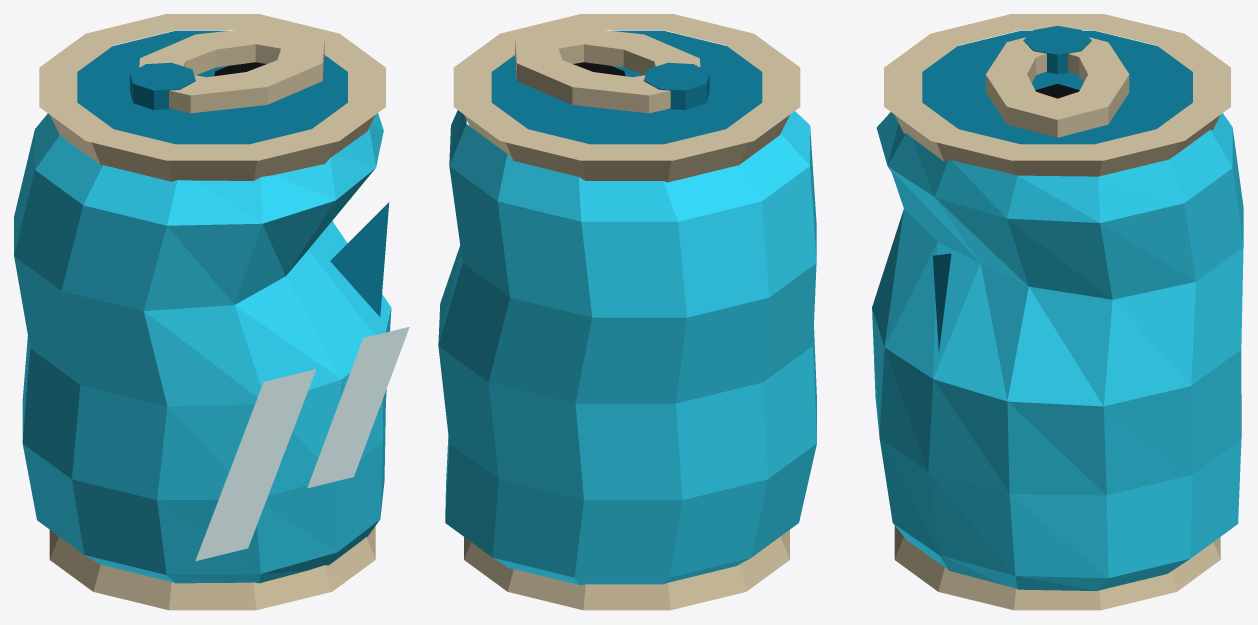
Rendered from soda-can-v1-CccrowkS.glb.
3 renders of one model, left to right at view 1: azimuth 30°, elevation 25°; view 2: azimuth 150°, elevation 25°; view 3: azimuth 270°, elevation 25°, orthographic.
Visible parts, largest first — view 1: SCV1_BodyShell, SCV1_TopRim, SCV1_TopPlate, SCV1_PullTab, SCV1_BottomShoulder, SCV1_LabelSlash_A, SCV1_LabelSlash_B, SCV1_TopShoulder, SCV1_DentFacet, SCV1_TabHinge; view 2: SCV1_BodyShell, SCV1_TopRim, SCV1_TopPlate, SCV1_PullTab, SCV1_BottomShoulder, SCV1_TopShoulder, SCV1_TabHinge; view 3: SCV1_BodyShell, SCV1_TopRim, SCV1_TopPlate, SCV1_PullTab, SCV1_BottomShoulder, SCV1_TopShoulder, SCV1_TabHinge, SCV1_DentFacet.
Boxes of the visible parts, left/top/right/bottom form: SCV1_BodyShell: left=14, top=113, right=391, bottom=583; SCV1_TopRim: left=39, top=14, right=385, bottom=160; SCV1_TopPlate: left=77, top=30, right=347, bottom=144; SCV1_PullTab: left=139, top=26, right=324, bottom=113; SCV1_BottomShoulder: left=49, top=526, right=375, bottom=610; SCV1_LabelSlash_A: left=195, top=369, right=316, bottom=561; SCV1_LabelSlash_B: left=307, top=327, right=409, bottom=488; SCV1_TopShoulder: left=49, top=114, right=375, bottom=181; SCV1_DentFacet: left=330, top=202, right=389, bottom=316; SCV1_TabHinge: left=130, top=62, right=195, bottom=109; SCV1_BodyShell: left=438, top=110, right=816, bottom=584; SCV1_TopRim: left=453, top=14, right=800, bottom=160; SCV1_TopPlate: left=491, top=30, right=762, bottom=144; SCV1_PullTab: left=515, top=26, right=700, bottom=113; SCV1_BottomShoulder: left=464, top=530, right=789, bottom=610; SCV1_TopShoulder: left=464, top=115, right=789, bottom=182; SCV1_TabHinge: left=643, top=62, right=709, bottom=109; SCV1_BodyShell: left=872, top=112, right=1243, bottom=590; SCV1_TopRim: left=884, top=14, right=1230, bottom=160; SCV1_TopPlate: left=922, top=30, right=1192, bottom=144; SCV1_PullTab: left=985, top=37, right=1129, bottom=137; SCV1_BottomShoulder: left=894, top=526, right=1220, bottom=610; SCV1_TopShoulder: left=895, top=115, right=1220, bottom=176; SCV1_TabHinge: left=1023, top=26, right=1091, bottom=73; SCV1_DentFacet: left=933, top=253, right=951, bottom=351.
Size of the model in its own units: 1.07 by 1.47 by 1.05.
